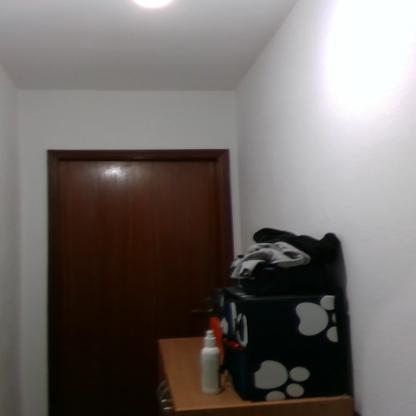door: (55, 161, 223, 415)
lever: (186, 307, 218, 318)
